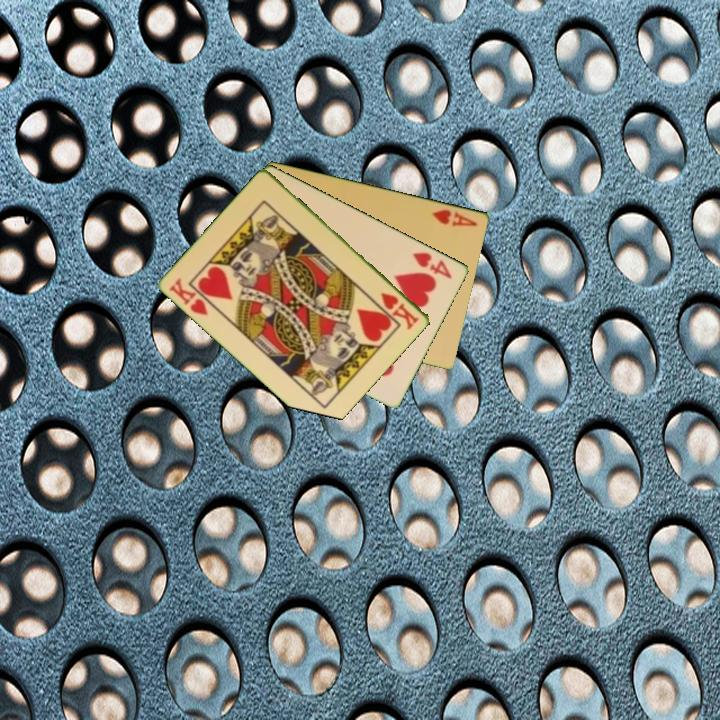4h: (409, 248, 456, 282)
Ah: (429, 205, 481, 229)
Kh: (166, 274, 211, 318), (377, 289, 422, 332)
